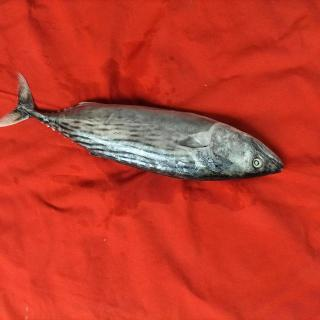Ikan: (10, 72, 288, 208)
